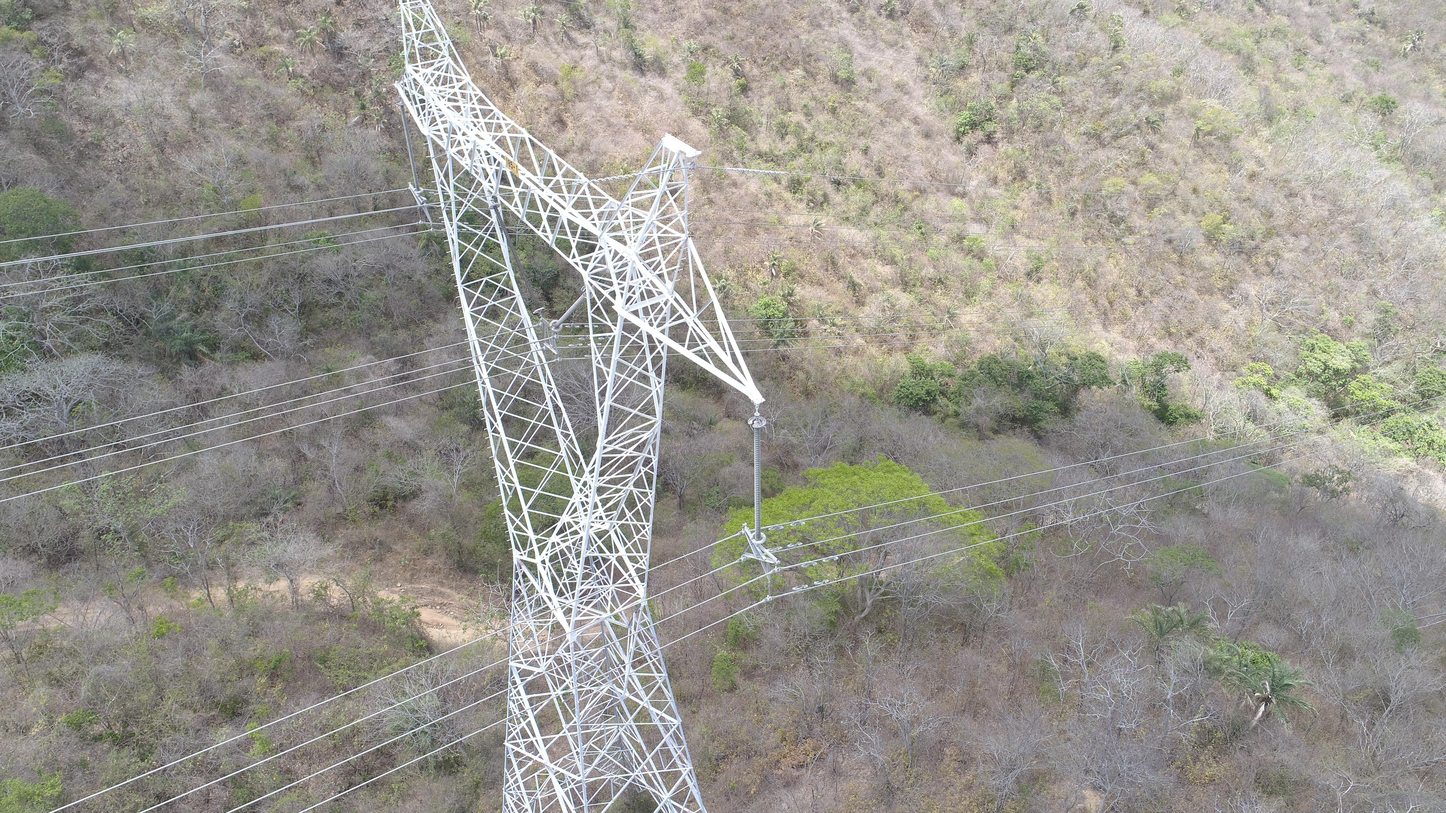power_tower: (395, 2, 768, 813)
